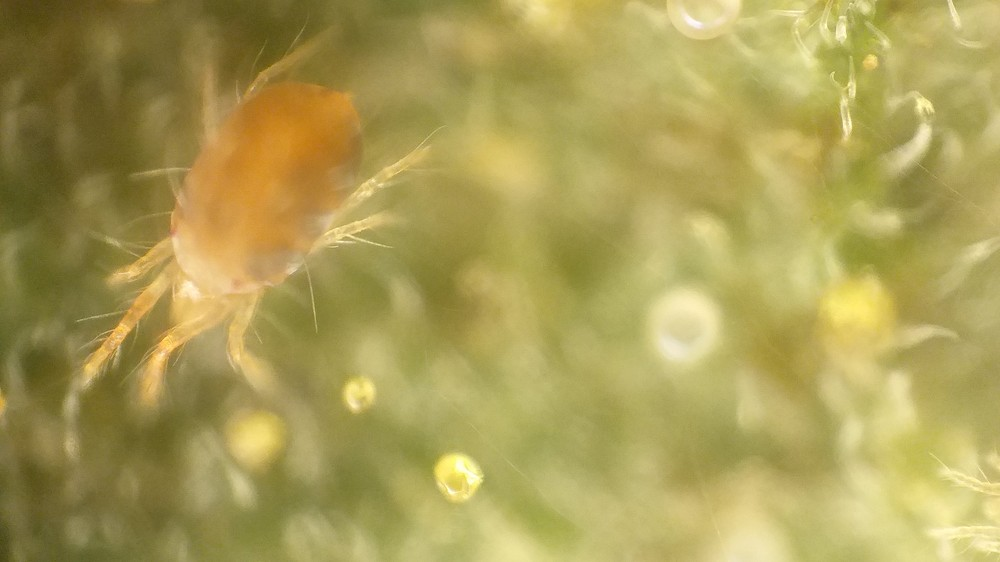Aracnido Rojo: (80, 31, 442, 407)
